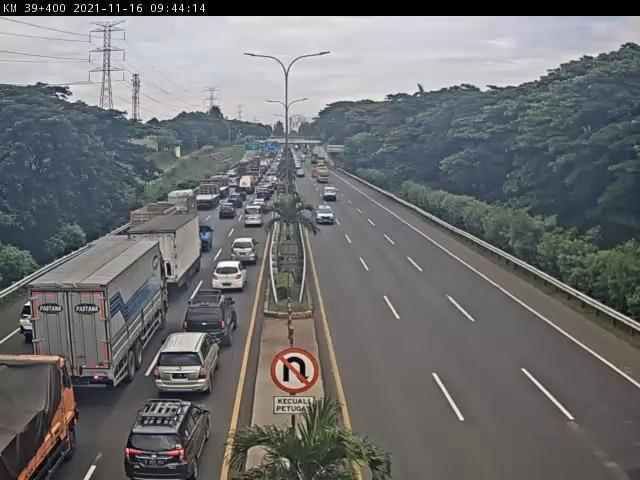car: (118, 397, 222, 480), (150, 336, 225, 395), (183, 289, 252, 341), (208, 261, 251, 289), (229, 235, 266, 264), (219, 201, 244, 225), (248, 205, 271, 230), (316, 203, 335, 232), (321, 186, 343, 201)
truck: (27, 243, 169, 384), (1, 353, 73, 480), (130, 215, 205, 293), (131, 206, 183, 253), (169, 189, 198, 219), (195, 185, 221, 210), (210, 177, 232, 197)
